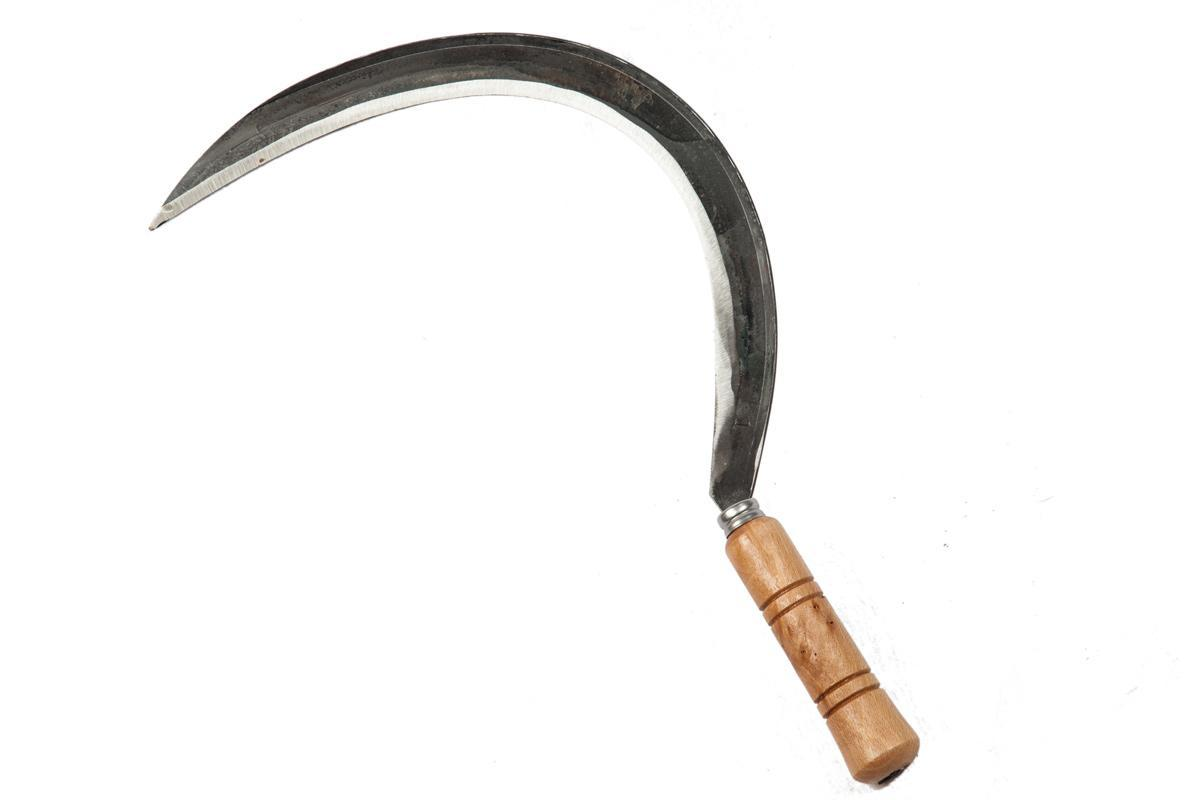foice: (123, 27, 925, 782)
